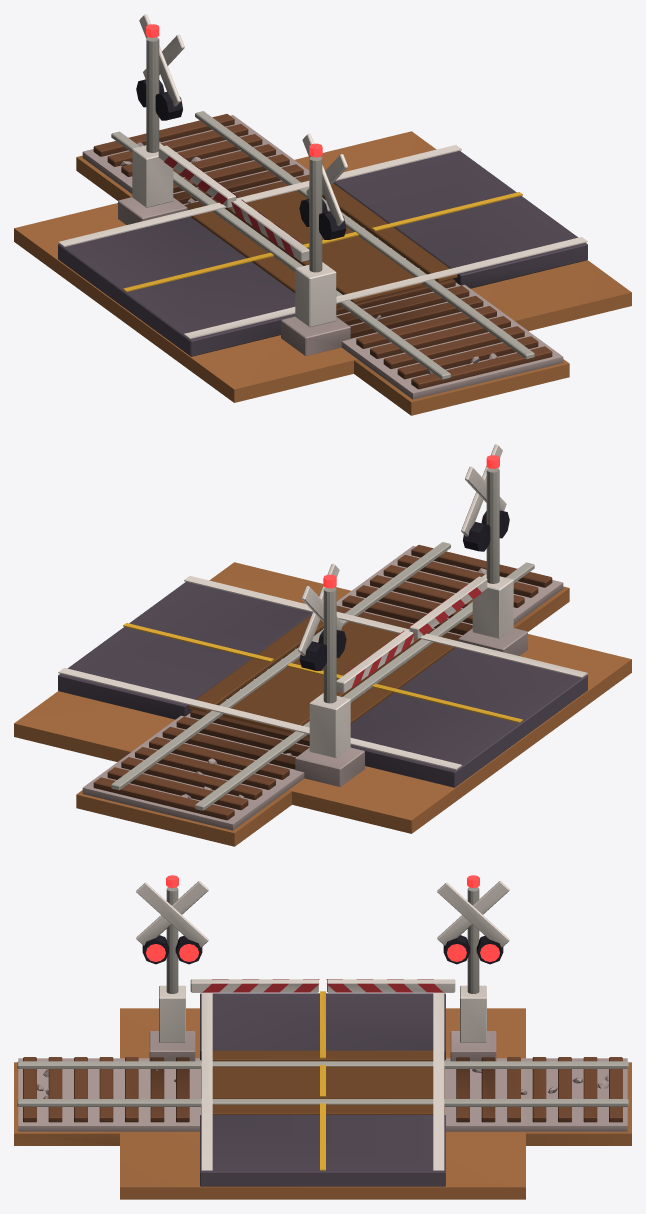
File: kit.rail-crossing.lod1.glb
3 renders of one model, top to bottom at view 1: azimuth 30°, elevation 25°; view 2: azimuth 150°, elevation 25°; view 3: azimuth 270°, elevation 25°, orthographic. The views are drawn at different scales.
Parts seen in each view (by area): view 1: object 5; view 2: object 5; view 3: object 5, signalL_emi_sirenRed.002, signalR_emi_sirenRed.002.
Part boxes in pixels (bbox=[...]): object 5: bbox=[14, 14, 631, 415]; object 5: bbox=[14, 444, 631, 846]; object 5: bbox=[14, 881, 631, 1199]; signalL_emi_sirenRed.002: bbox=[146, 944, 198, 961]; signalR_emi_sirenRed.002: bbox=[447, 944, 499, 961].
Bounding box in the file's own units: 7.4 × 3.71 × 10.8.
